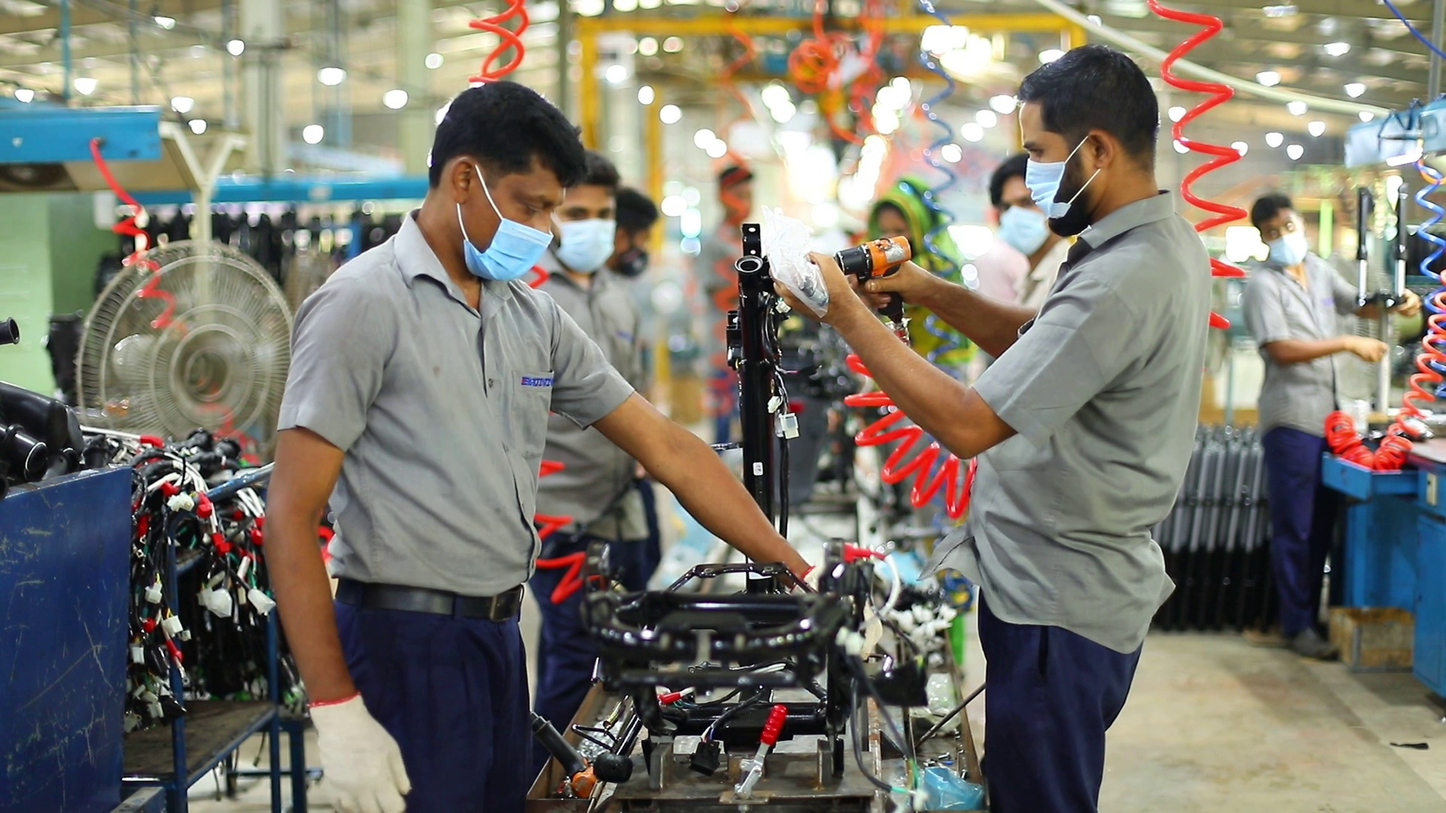mask: (462, 217, 554, 282), (557, 218, 616, 273), (1026, 159, 1072, 218), (998, 206, 1051, 257), (1268, 233, 1307, 267)
person: (266, 78, 815, 813), (770, 49, 1214, 813), (1240, 195, 1422, 659), (521, 148, 651, 732), (606, 189, 665, 577), (860, 179, 966, 377), (968, 153, 1071, 314)
